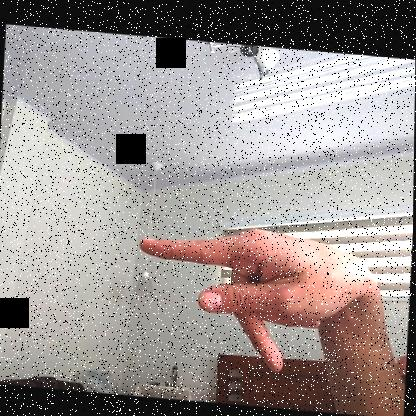P: (131, 216, 372, 376)
